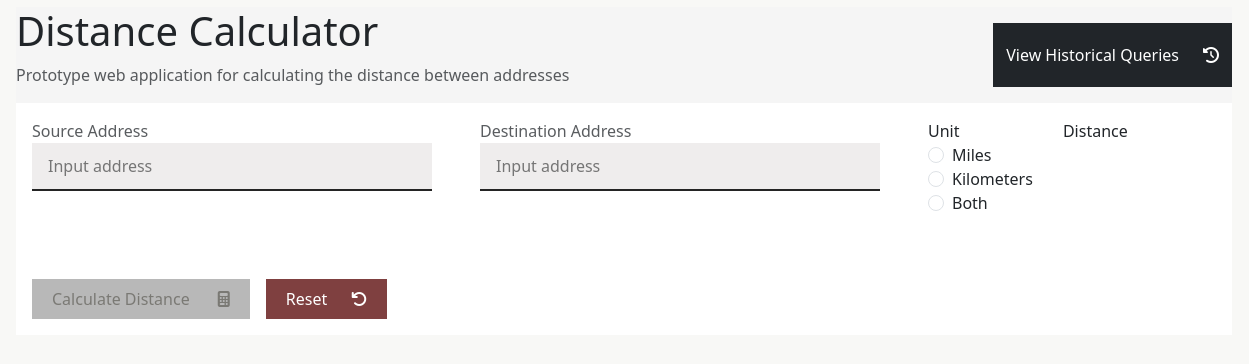
Scenario: App Component › renders whole application
The image size is (1249, 364).
Click the button "View Historical Queries" at (1113, 55), box [993,23,1232,87]
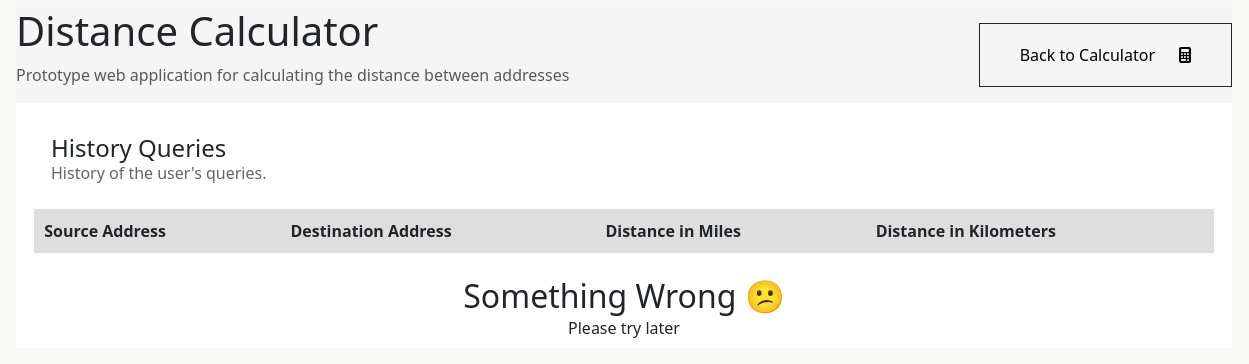
Result: the element with test id "History" is shown
